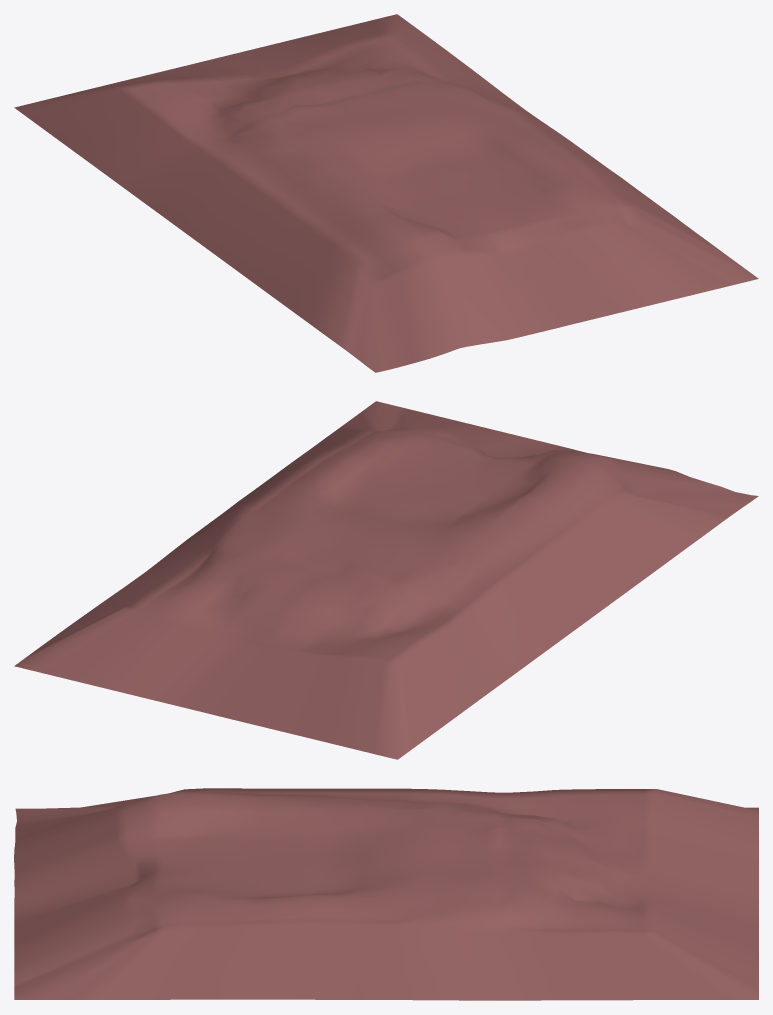
The picture shows the model from 3 angles, top to bottom: view 1: azimuth 30°, elevation 25°; view 2: azimuth 150°, elevation 25°; view 3: azimuth 270°, elevation 25°; orthographic projection. The views are drawn at different scales.
Parts seen in each view (by area): view 1: DONESON9; view 2: DONESON9; view 3: DONESON9.
Boxes of the visible parts, bbox=[...] form: DONESON9: bbox=[14, 14, 758, 372]; DONESON9: bbox=[14, 401, 758, 759]; DONESON9: bbox=[14, 788, 758, 1000].
Bounding box in the file's own units: 401 × 61.93 × 656.
